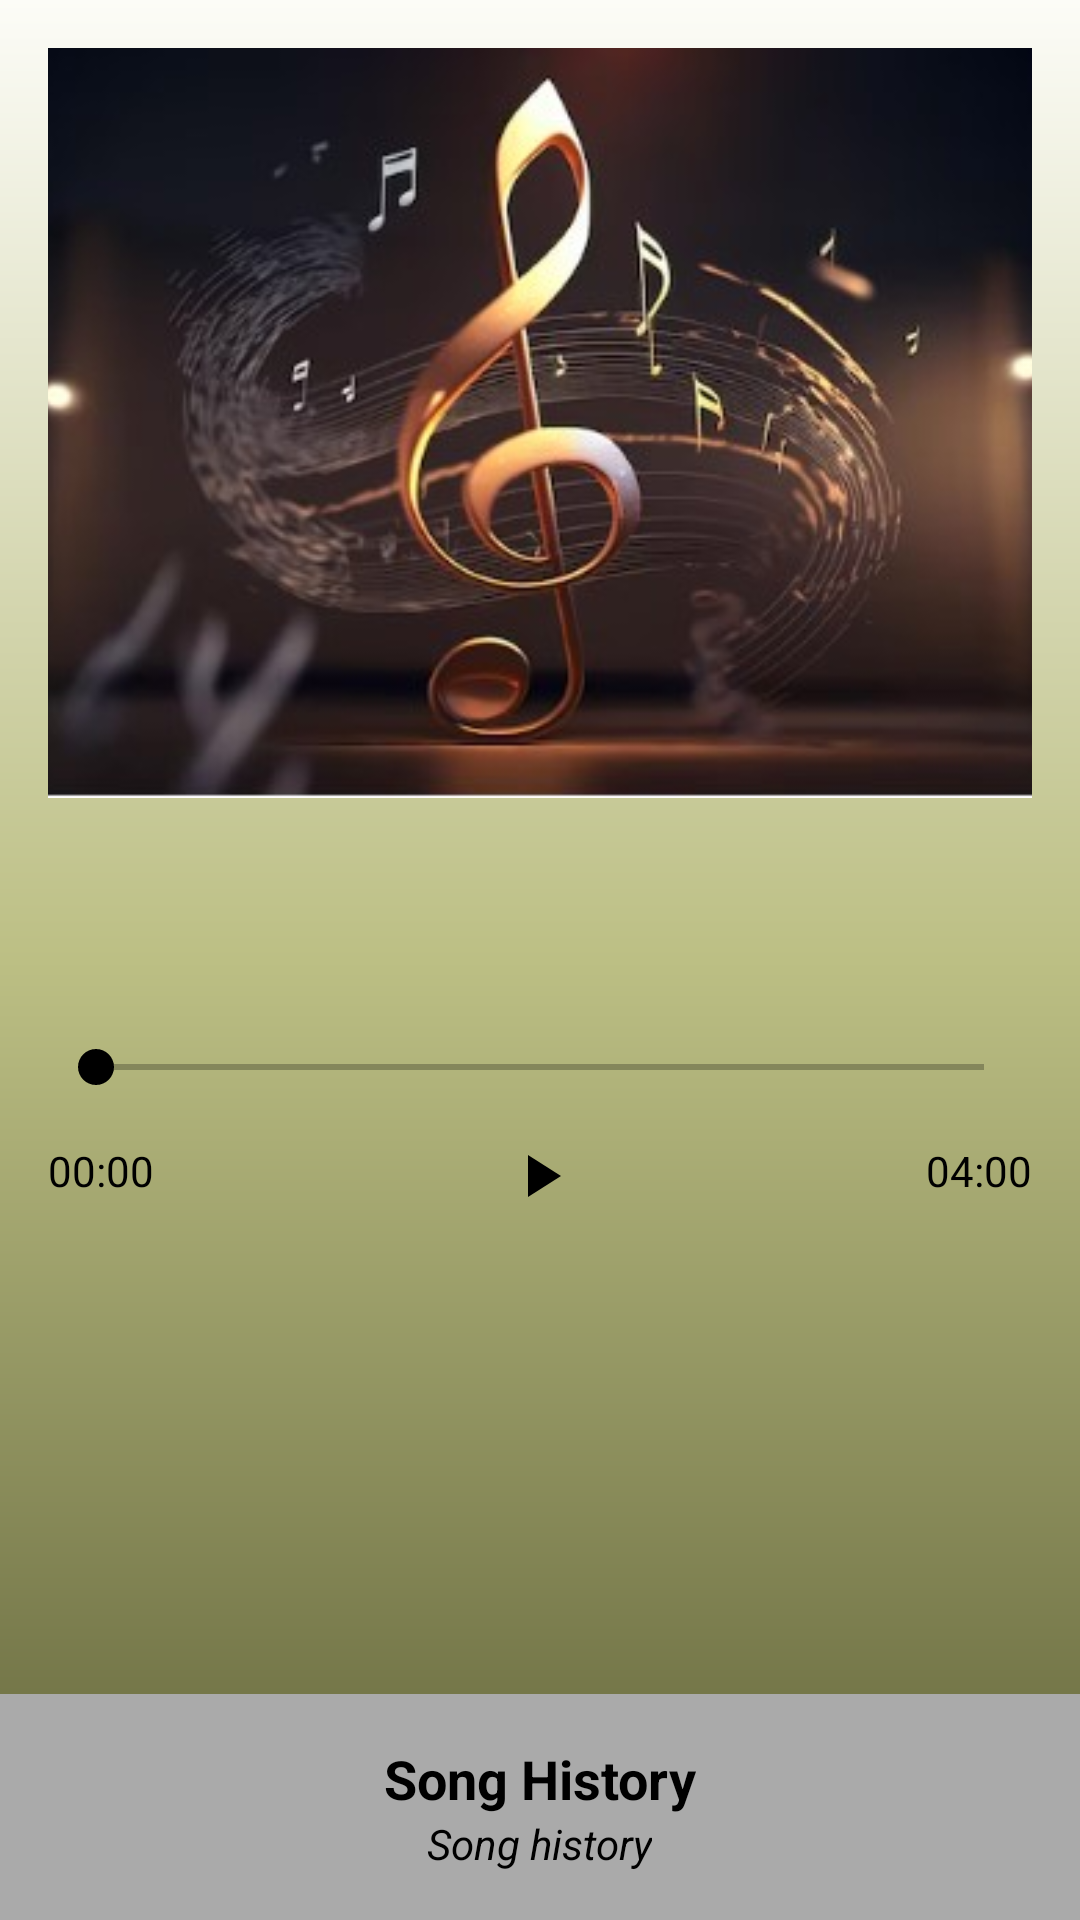

Icon click points for this 1080 x 1920 phone screenshot, format point (x, y):
Play/Pause: point (544, 1176)
